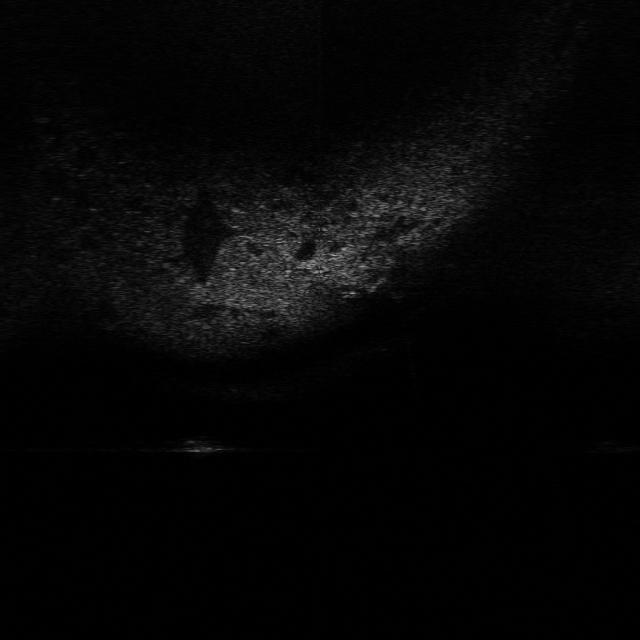ball: (378, 270, 414, 304)
cube: (160, 429, 236, 461)
